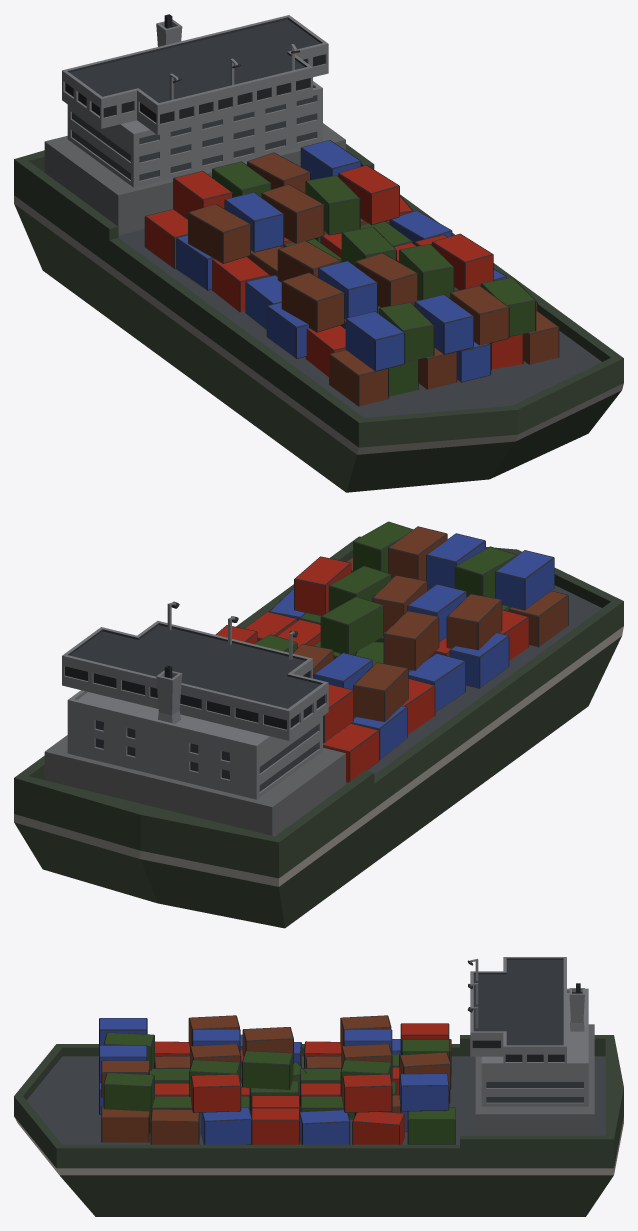
The model's file is TransitShip_1.fbx.
3 renders of one model, top to bottom at view 1: azimuth 30°, elevation 25°; view 2: azimuth 150°, elevation 25°; view 3: azimuth 270°, elevation 25°, orthographic. The views are drawn at different scales.
Visible parts, largest first — view 1: TransitShip_1; view 2: TransitShip_1; view 3: TransitShip_1.
Part boxes in pixels (x1=…): TransitShip_1: x1=14, y1=14, x2=623, y2=492; TransitShip_1: x1=14, y1=521, x2=623, y2=928; TransitShip_1: x1=14, y1=957, x2=623, y2=1216.
Size of the model in its own units: 1552 by 1291 by 3830.
